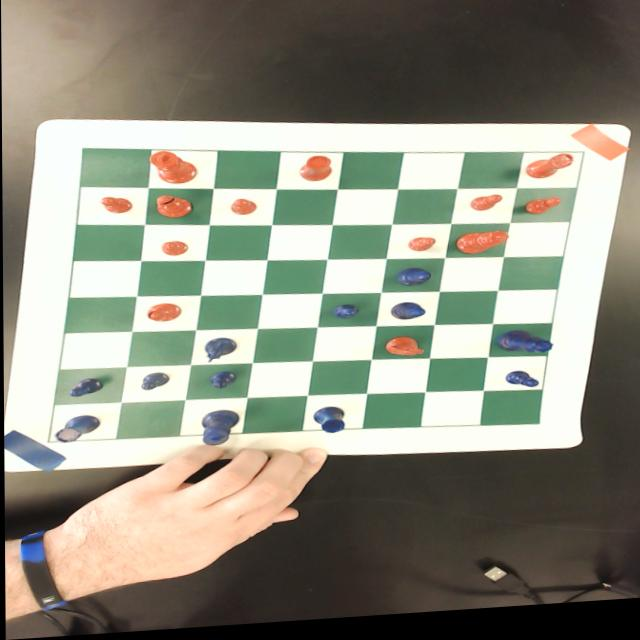B: (387, 306, 426, 326), (393, 273, 431, 293)
K: (197, 412, 239, 448)
N: (200, 340, 236, 367)
P: (67, 379, 102, 399), (504, 377, 538, 397), (139, 374, 169, 393), (206, 374, 236, 392), (331, 308, 357, 324)
Q: (496, 336, 553, 363)
R: (51, 416, 100, 445), (311, 410, 345, 440)
b: (152, 196, 191, 222), (146, 305, 181, 325)
k: (147, 152, 198, 188)
n: (384, 341, 424, 363)
p: (523, 205, 561, 223), (98, 197, 133, 216), (469, 201, 503, 219), (158, 242, 189, 259), (406, 242, 436, 259), (229, 201, 257, 219)
q: (455, 236, 509, 261)
r: (525, 160, 575, 187), (298, 159, 334, 187)
